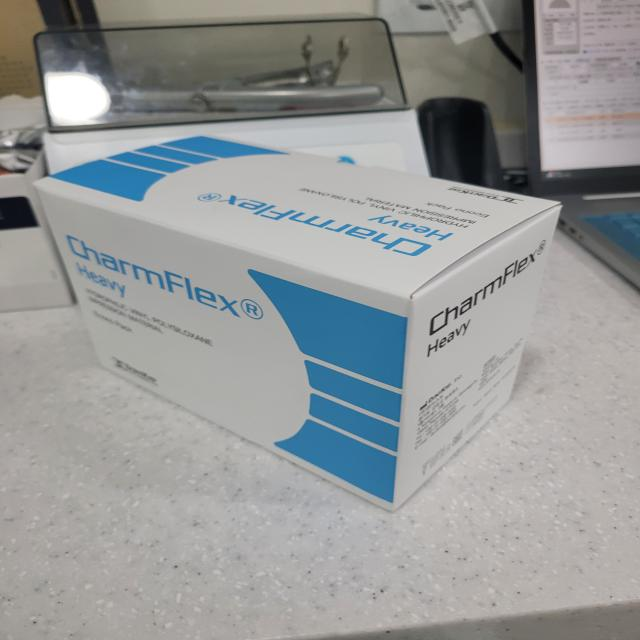impression: (27, 123, 584, 522)
